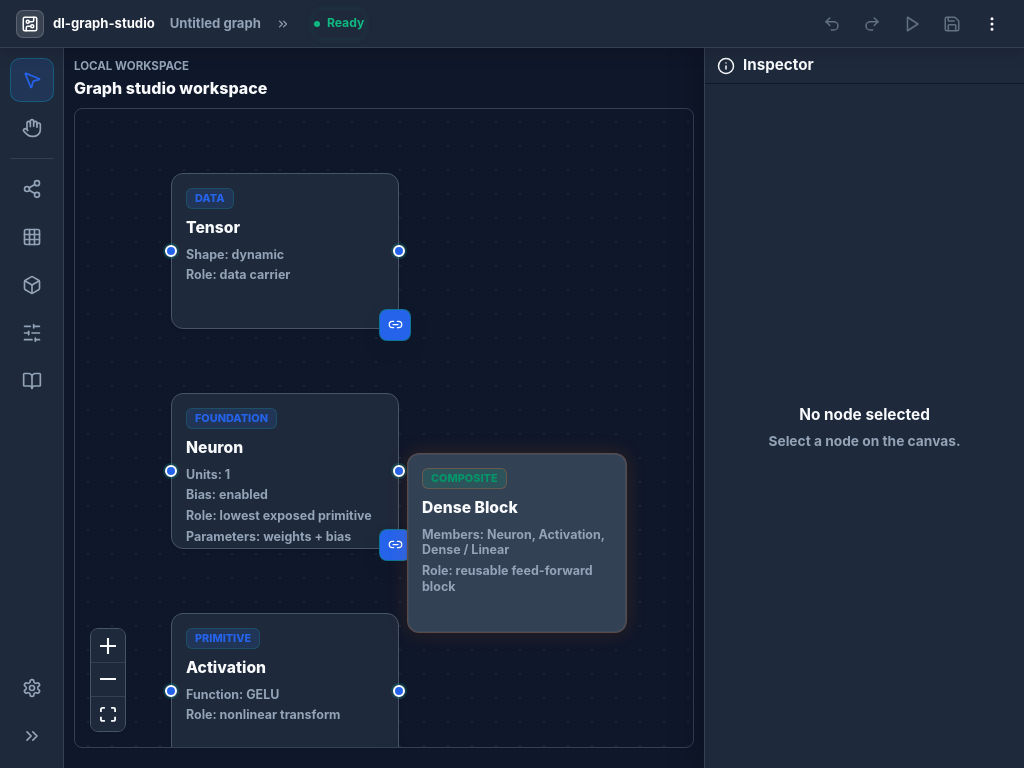
App shell › selects a composite node and shows basic inspector details
This screenshot has width=1024, height=768.
Click the button with aria-label "dense block composite node": [517, 543] box [407, 453, 627, 633]
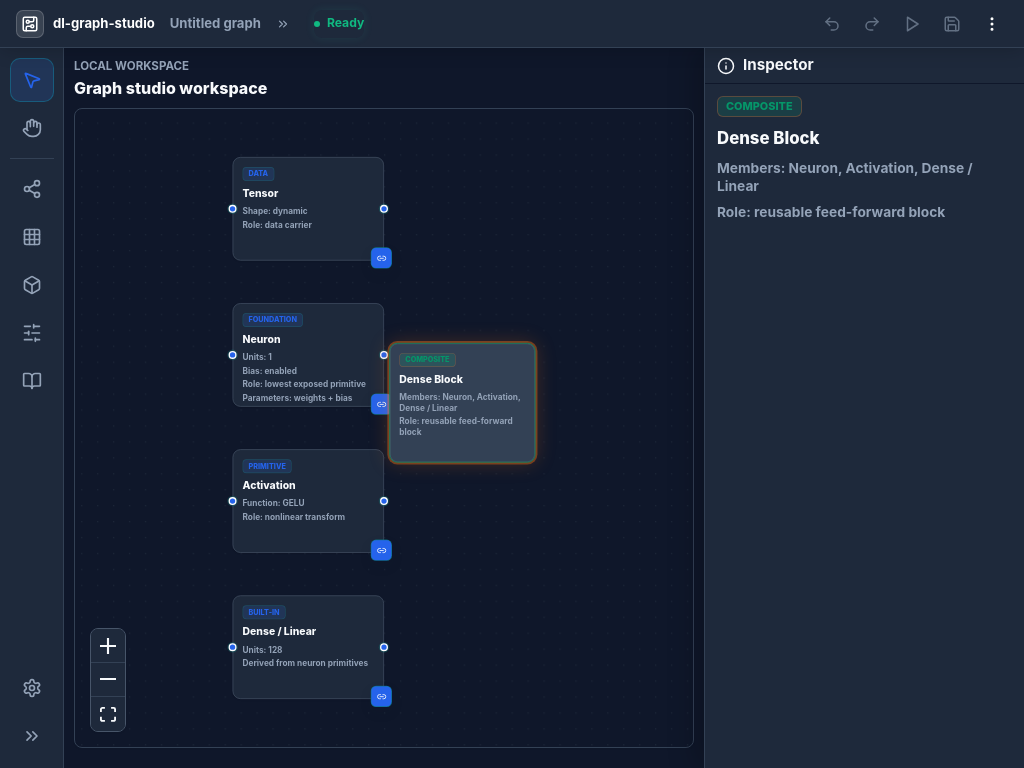
Check: the heading "Dense Block" below "Inspector" is shown, box [717, 128, 820, 148]
Check: the list item "Members: Neuron, Activation, Dense / Linear" below "Inspector" is shown, box [717, 160, 973, 194]
Check: the list item "Role: reusable feed-forward block" below "Inspector" is shown, box [717, 204, 945, 220]
